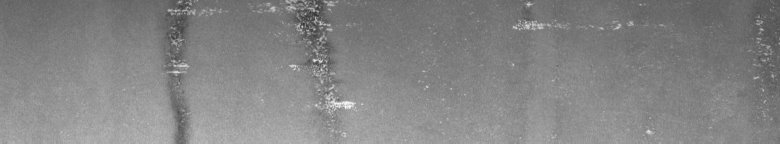hc: (162, 4, 430, 136)
